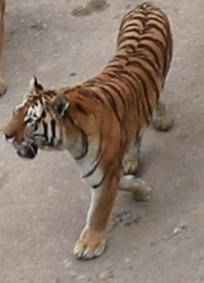tiger: (5, 2, 172, 258)
